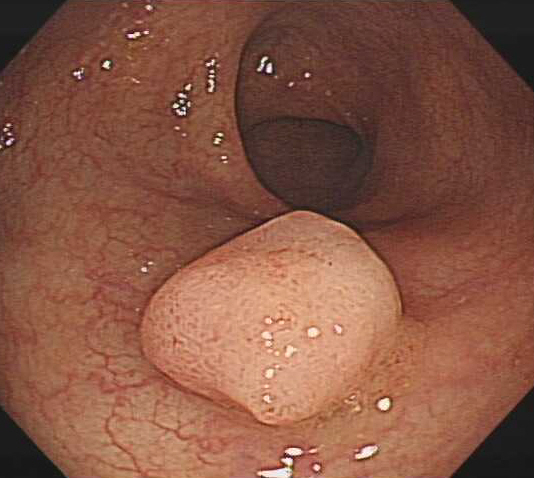adenoma: (134, 208, 406, 431)
